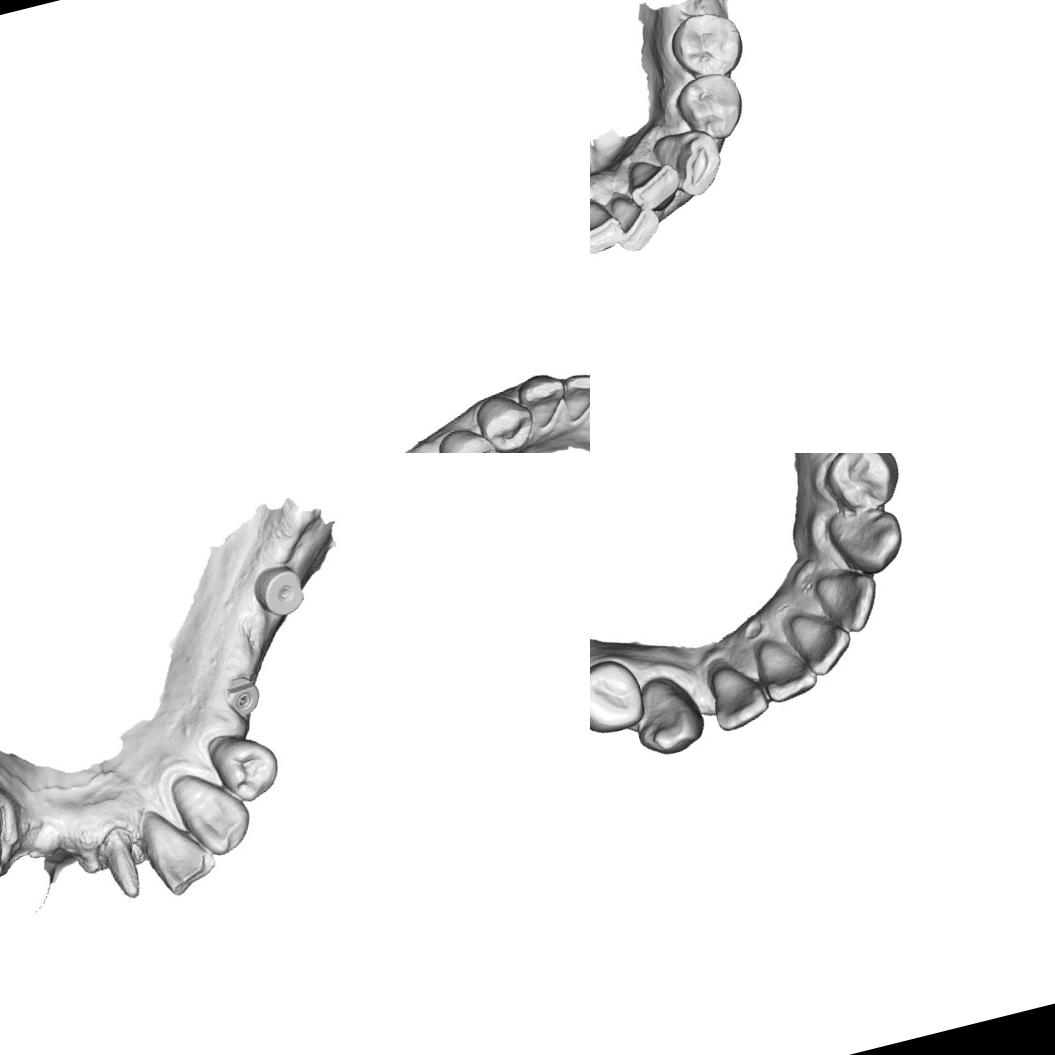canine: (167, 764, 255, 862), (625, 668, 709, 762), (825, 500, 912, 579), (655, 125, 724, 202), (512, 368, 572, 432)
crown: (91, 828, 149, 909), (0, 802, 17, 896)
implant: (246, 555, 307, 618), (215, 672, 265, 718)
incisor: (139, 800, 220, 900), (812, 560, 887, 641), (783, 602, 858, 682), (700, 653, 774, 734), (750, 626, 820, 705), (603, 176, 665, 256), (620, 151, 685, 214), (590, 192, 625, 259), (556, 366, 590, 423)
premolar: (202, 719, 286, 810), (660, 3, 748, 88), (672, 67, 750, 150), (818, 453, 906, 515), (590, 654, 646, 741), (470, 386, 539, 453), (431, 419, 506, 453)
